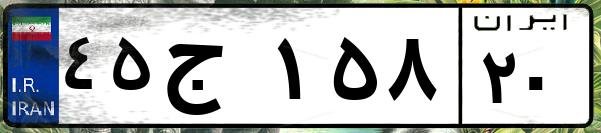0: (525, 38, 570, 115)
1: (270, 28, 330, 110)
2: (475, 38, 525, 113)
4: (57, 26, 110, 100)
5: (330, 28, 385, 110), (110, 28, 158, 98)
8: (385, 28, 445, 110)
ج: (158, 20, 270, 120)
